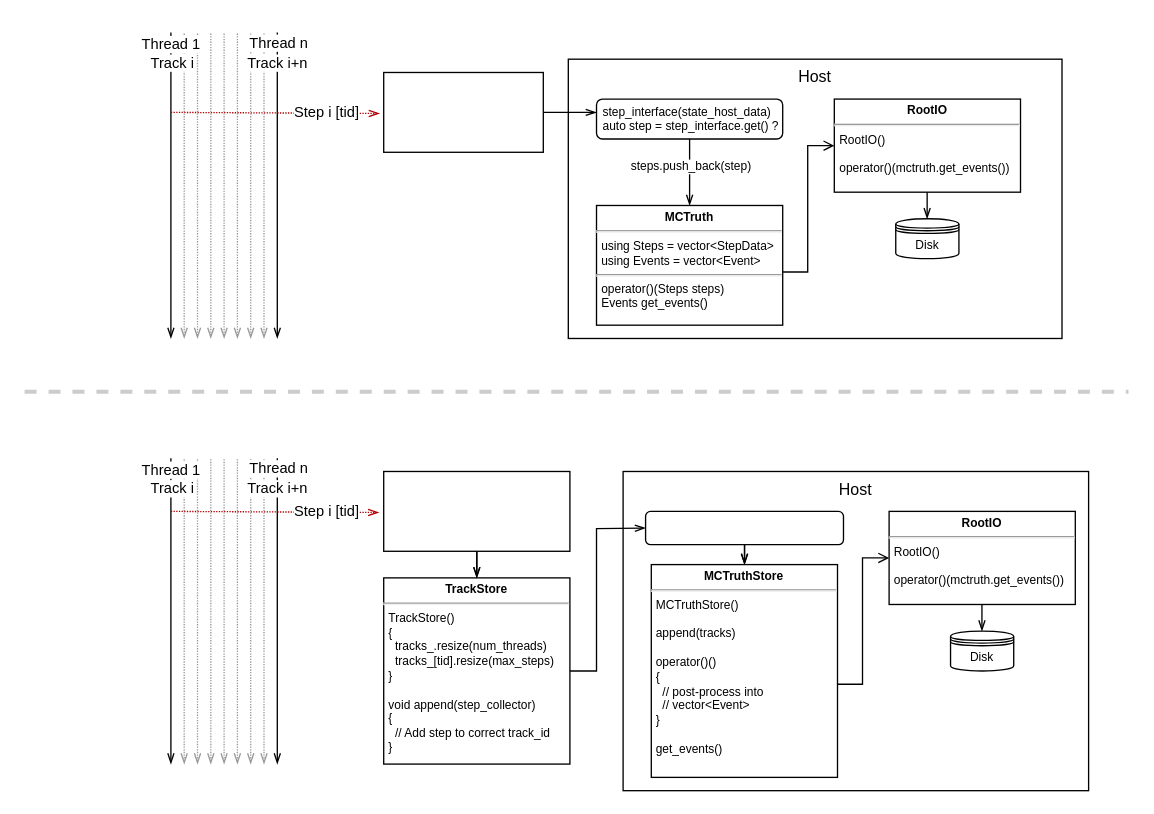
This 1154x814 diagram has some shape labels left out. The shapes that lost their labels are listed below. From the top down, each one's box as (x1, y1, x2, y2) in pixels, then its label:
(382, 71, 543, 152): StepCollector Collect StepStateData[tid] (pre- and post-step points)
(382, 470, 570, 551): StepStore Collect StepStateData[tid] (pre- and post-step points)
(644, 510, 843, 545): auto tracks = track_store.host_ref()
